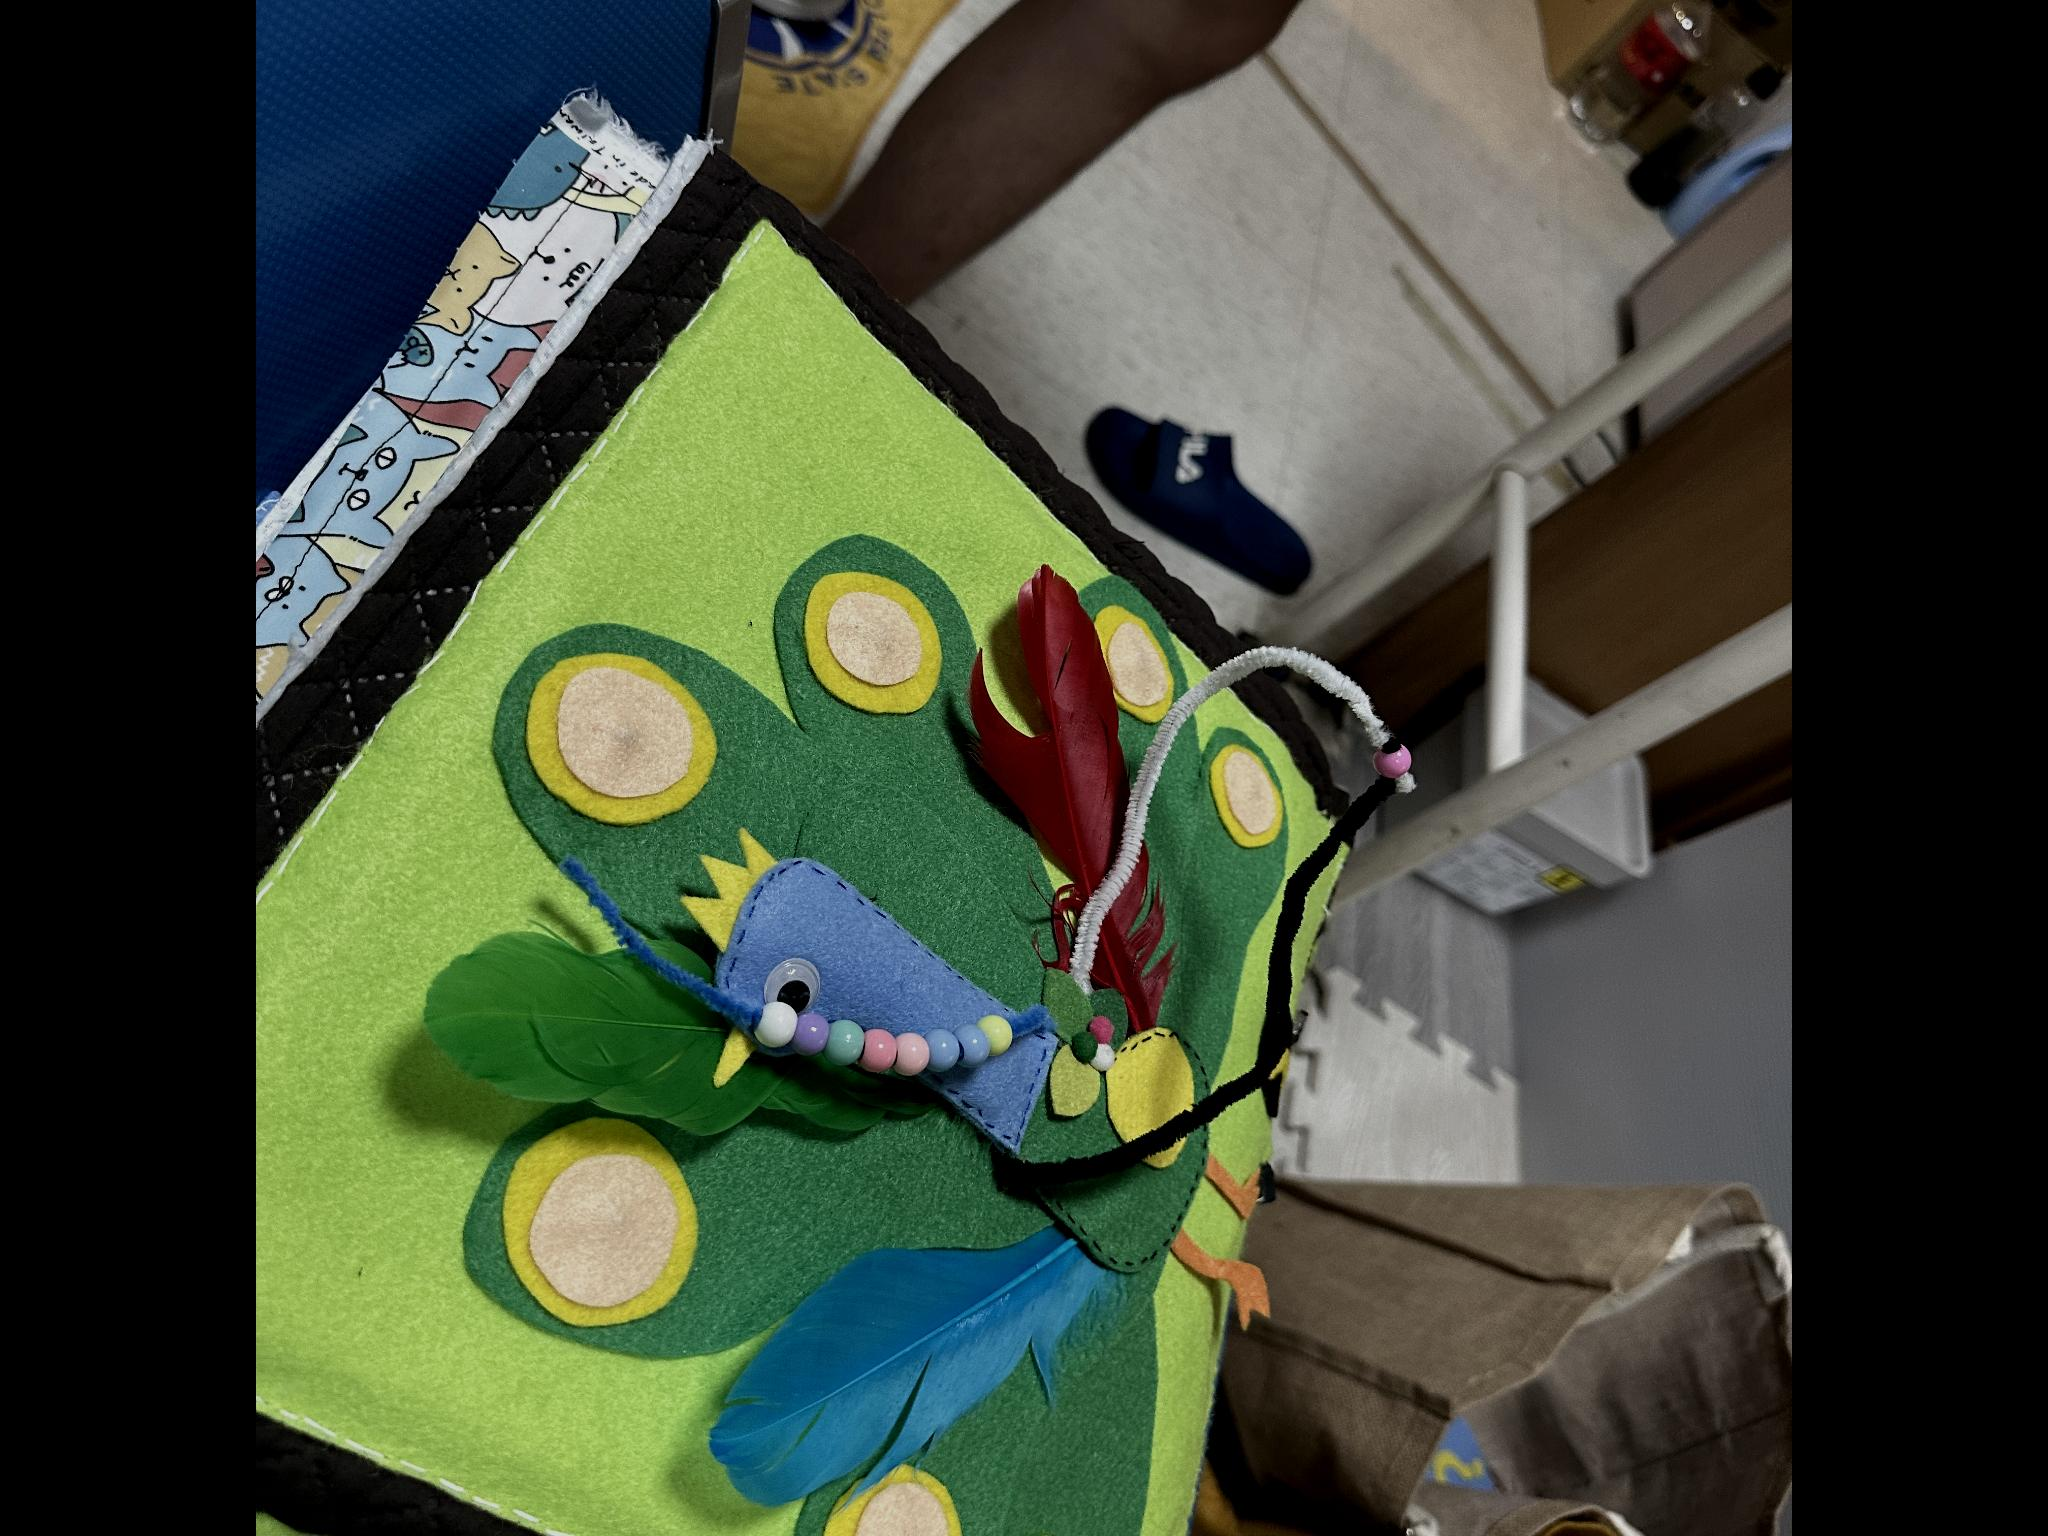bead: (982, 994, 1024, 1076), (824, 1005, 866, 1067), (862, 1012, 896, 1086), (898, 1011, 928, 1089), (752, 998, 794, 1046), (930, 1010, 960, 1076), (795, 998, 833, 1048), (961, 1010, 983, 1080)
